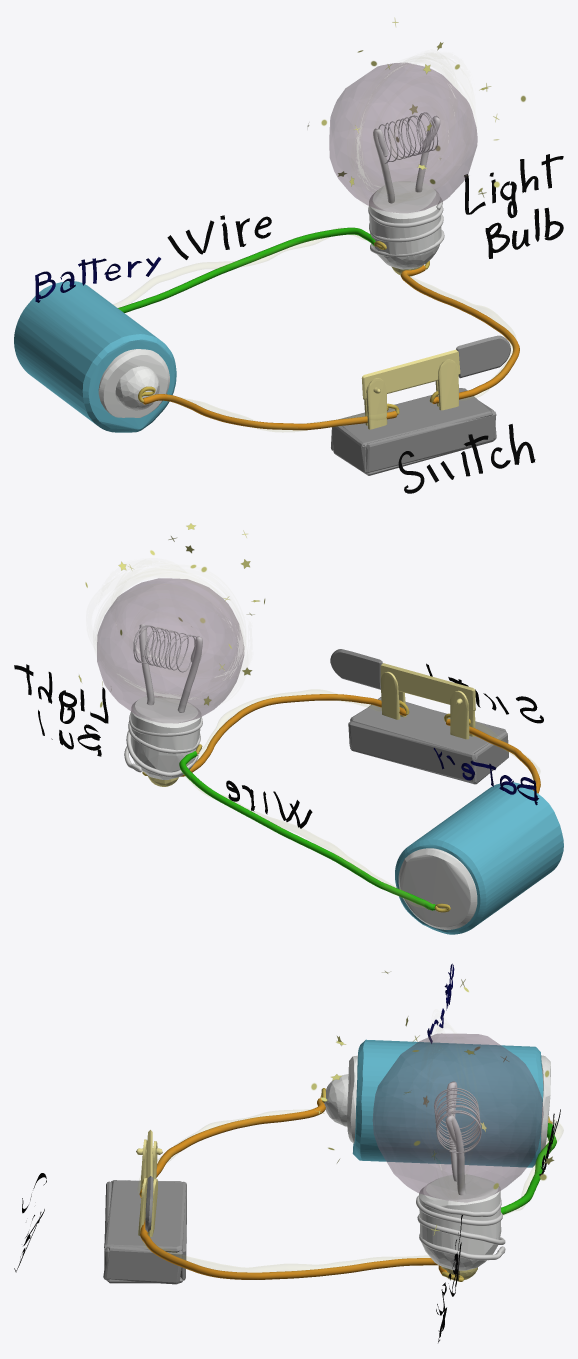
3 renders of one model, top to bottom at view 1: azimuth 30°, elevation 25°; view 2: azimuth 150°, elevation 25°; view 3: azimuth 270°, elevation 25°, orthographic. The views are drawn at different scales.
Visible parts, largest first — view 1: bulb, battery, switch, wires, bulb_word, switch_word, battery_word, wire_word; view 2: bulb, battery, switch, wires, bulb_word, battery_word, wire_word, switch_word; view 3: bulb, battery, switch, wires, bulb_word.
Part boxes in pixels (box(x1,y1,x2,y2)): bulb: box(307, 17, 525, 276); battery: box(14, 281, 176, 432); switch: box(331, 335, 510, 475); wires: box(114, 227, 519, 431); bulb_word: box(464, 154, 563, 258); switch_word: box(398, 424, 535, 493); battery_word: box(35, 257, 160, 302); wire_word: box(167, 215, 271, 259); bulb: box(78, 523, 265, 786); battery: box(395, 782, 563, 934); switch: box(330, 649, 508, 784); wires: box(142, 690, 540, 912); bulb_word: box(14, 664, 108, 756); battery_word: box(433, 748, 538, 805); wire_word: box(226, 780, 312, 828); switch_word: box(426, 663, 543, 723); bulb: box(311, 971, 554, 1279); battery: box(324, 1039, 550, 1167); switch: box(103, 1130, 186, 1284); wires: box(138, 1088, 563, 1281); bulb_word: box(436, 1215, 462, 1342).
Size of the model in its own units: 0.89 by 0.499 by 0.7006.
Materials: 10 (3 with a texture image).
